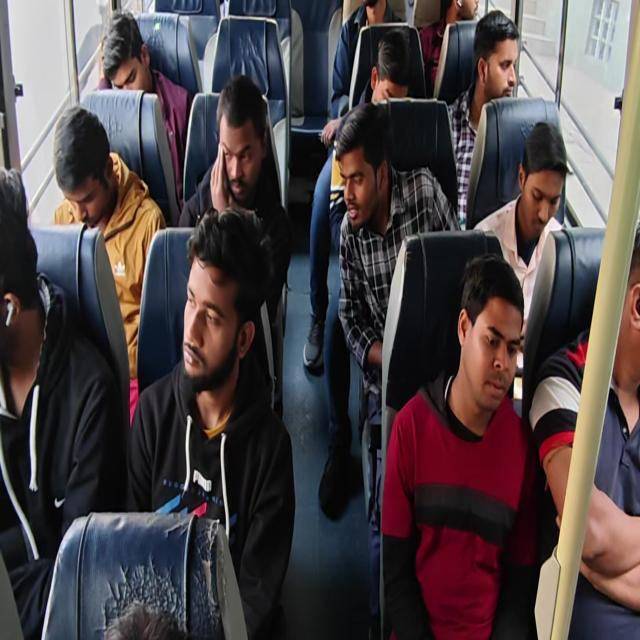person: (0, 182, 47, 372), (453, 264, 514, 410), (179, 259, 241, 390), (52, 97, 115, 221), (512, 125, 566, 245), (210, 104, 270, 194), (332, 118, 382, 224), (604, 223, 640, 360), (99, 11, 154, 97), (368, 45, 413, 119), (476, 25, 511, 106), (445, 0, 482, 30), (359, 0, 388, 27)
